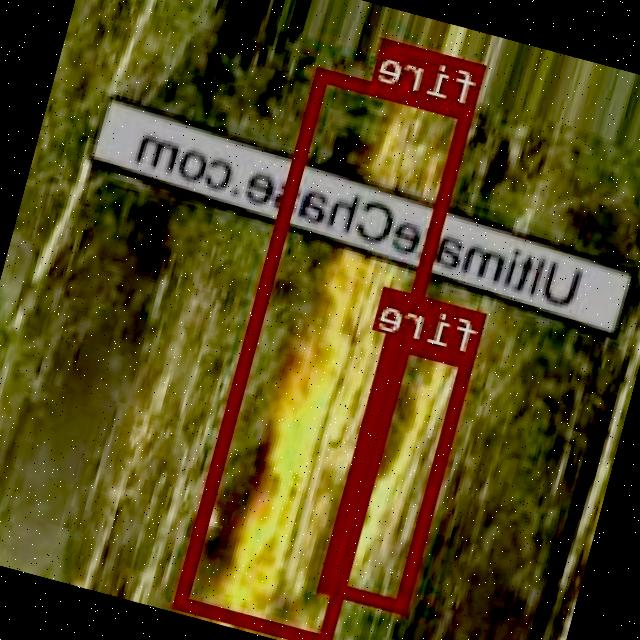fire: (175, 65, 477, 640), (320, 332, 476, 614)
